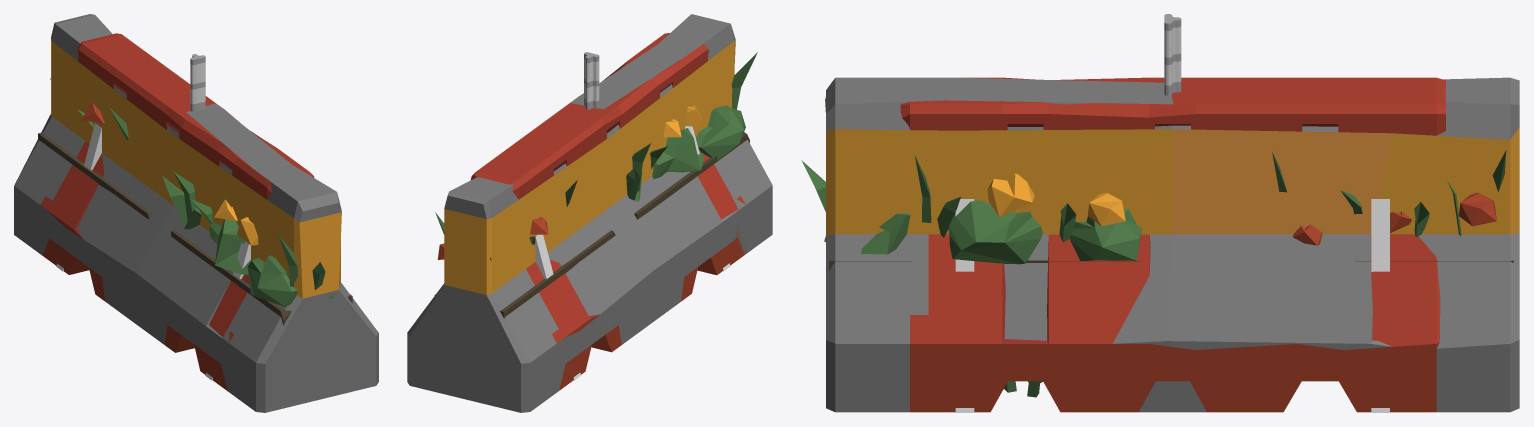
Rendered from dividers.glb.
3 views of the same model, side by side, from view 1: azimuth 30°, elevation 25°; view 2: azimuth 150°, elevation 25°; view 3: azimuth 270°, elevation 25° (orthographic). The views are drawn at different scales.
Visible parts, largest first — view 1: jersey-barrier-concrete, jersey-barrier-plastic, planter-box, barricade, safehit; view 2: jersey-barrier-concrete, jersey-barrier-plastic, planter-box, safehit, barricade; view 3: jersey-barrier-concrete, jersey-barrier-plastic, planter-box, barricade, safehit.
Boxes of the visible parts, left/top/right/bottom form: jersey-barrier-concrete: left=14, top=14, right=378, bottom=412; jersey-barrier-plastic: left=40, top=33, right=314, bottom=390; planter-box: left=38, top=78, right=352, bottom=325; barricade: left=56, top=123, right=250, bottom=380; safehit: left=190, top=54, right=205, bottom=111; jersey-barrier-concrete: left=407, top=14, right=772, bottom=412; jersey-barrier-plastic: left=471, top=33, right=745, bottom=390; planter-box: left=434, top=52, right=757, bottom=318; safehit: left=584, top=52, right=599, bottom=109; barricade: left=535, top=126, right=730, bottom=380; jersey-barrier-concrete: left=826, top=77, right=1519, bottom=412; jersey-barrier-plastic: left=900, top=77, right=1445, bottom=412; planter-box: left=801, top=97, right=1513, bottom=270; barricade: left=955, top=199, right=1389, bottom=412; safehit: left=1164, top=14, right=1181, bottom=95.
Size of the model in its own units: 0.664 by 1.28 by 2.37.
Materials: 1 (1 with a texture image).
